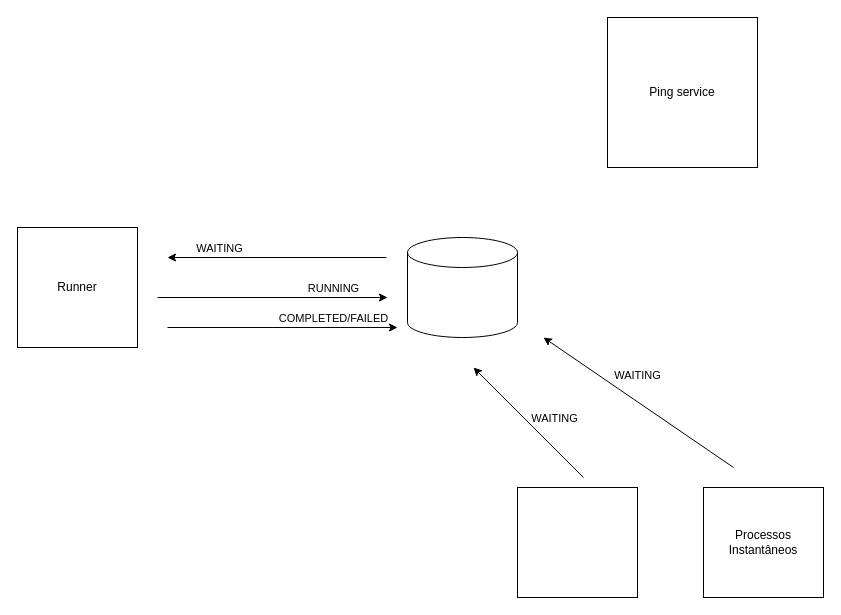
Some shapes in this 841 by 615 pixel diagram are drawn without their labels. The shapes that lost their labels are listed below. From the top down, each one's centre as x and y in pixels, then its label:
At [462,287]: "executed_tasks".
At [577,542]: "Agendador".
